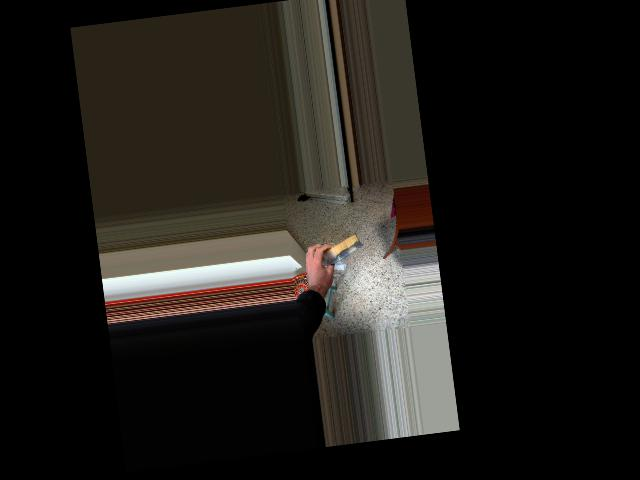cheese: (296, 218, 369, 280)
